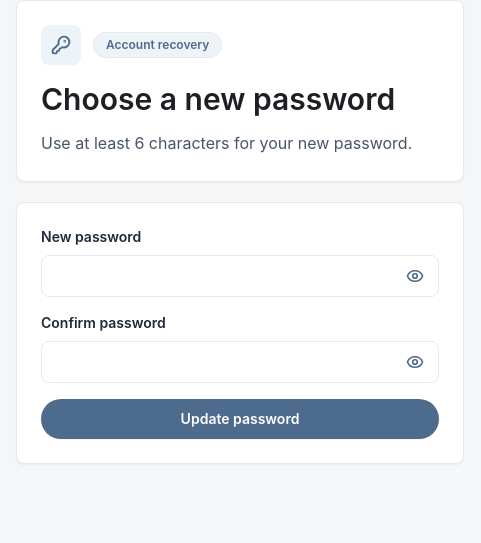
it: ResetPasswordPage › keeps the form visible when Supabase rejects the update
The width and height of the screenshot is (481, 543).
Type "password123" into the password field labelled "New password".
click(240, 276); type("password123")  # box x1=41 y1=255 x2=439 y2=297
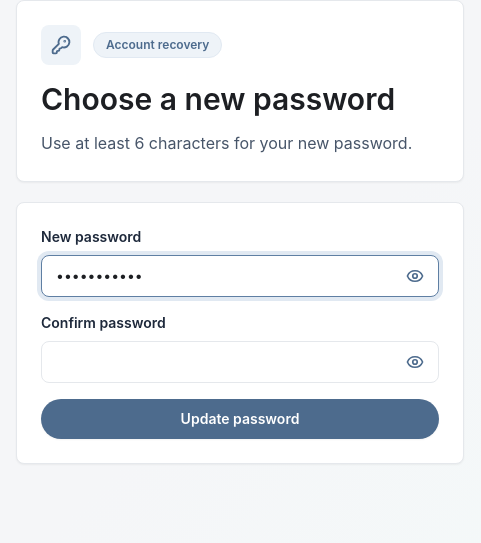
Type "password123" into the password field labelled "Confirm password".
click(240, 362); type("password123")  # box x1=41 y1=341 x2=439 y2=383
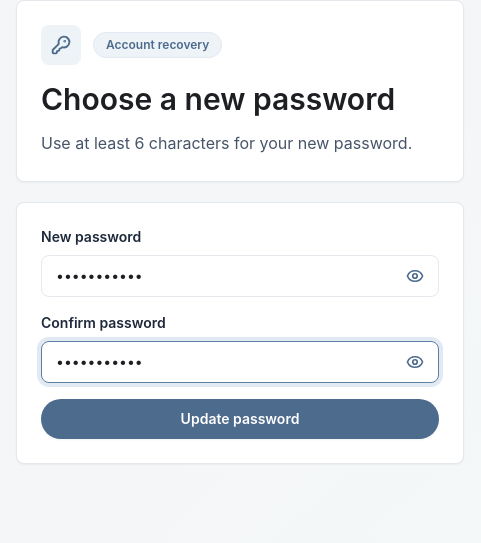
Click the button "Update password".
click(240, 419)  # box x1=41 y1=399 x2=439 y2=439
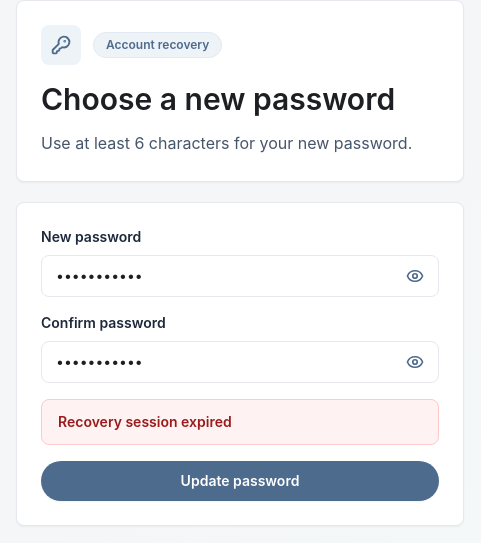
Expected: the text "Recovery session expired" is shown, x1=41 y1=399 x2=439 y2=445
